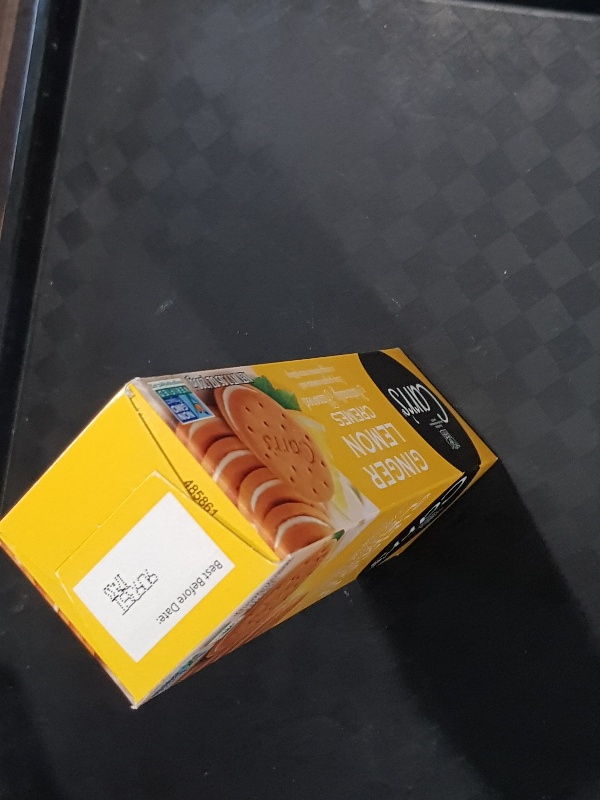Carr's Ginger Lemon Cremes: (1, 346, 499, 713)
